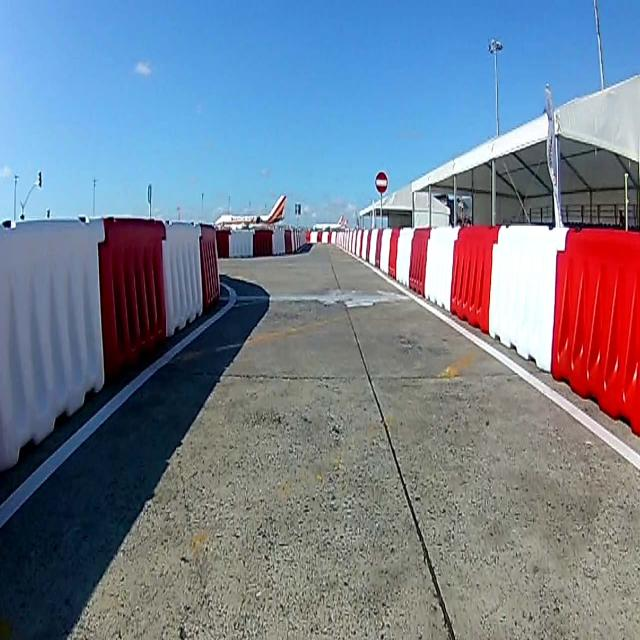girisyok: (375, 170, 388, 194)
